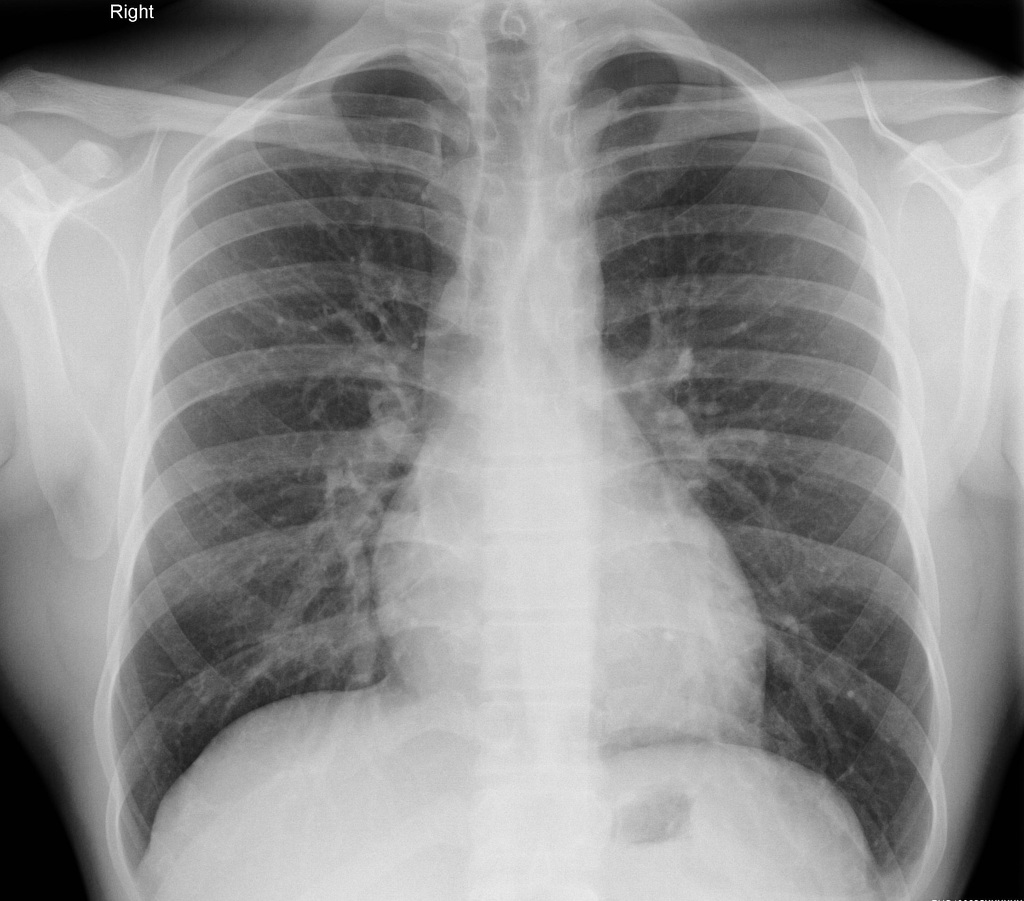cancer: (195, 177, 574, 726), (572, 266, 914, 688)
